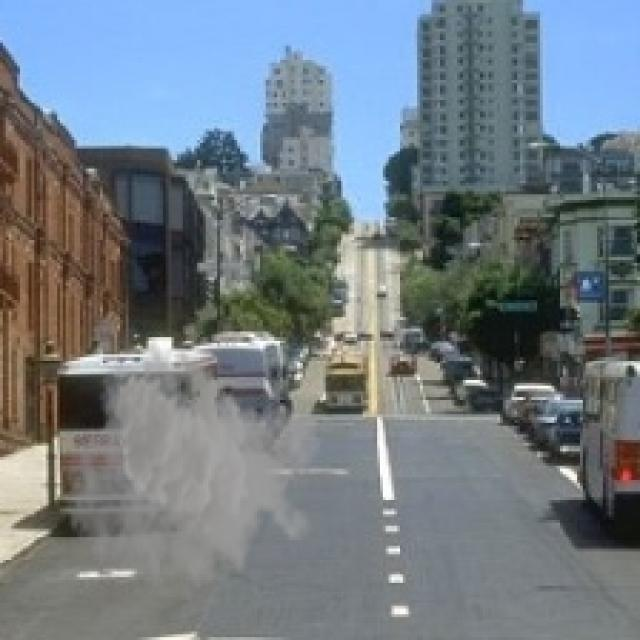Smoke: (63, 337, 323, 614)
